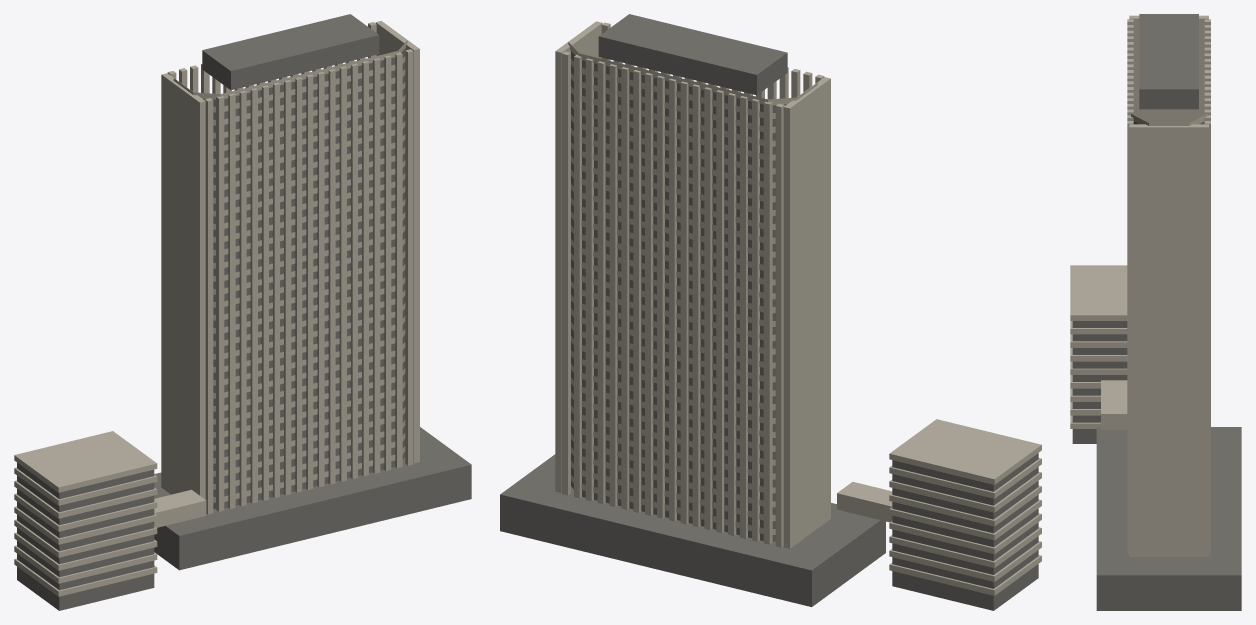
The model's file is centre_point.glb.
The picture shows the model from 3 angles, left to right: view 1: azimuth 30°, elevation 25°; view 2: azimuth 150°, elevation 25°; view 3: azimuth 270°, elevation 25°; orthographic projection. The views are drawn at different scales.
Visible parts, largest first — view 1: centre_point; view 2: centre_point; view 3: centre_point.
Part boxes in pixels (bbox=[...]): centre_point: bbox=[14, 14, 471, 610]; centre_point: bbox=[500, 14, 1041, 610]; centre_point: bbox=[1070, 14, 1241, 610].
Size of the model in its own units: 116 by 122 by 39.
